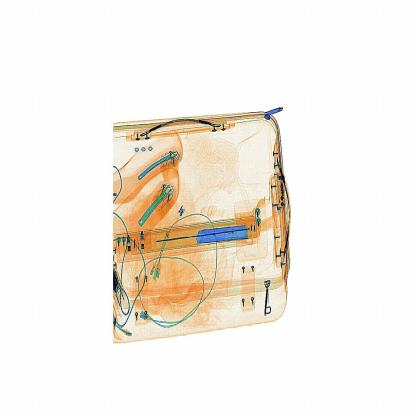pliers: (189, 217, 258, 252)
